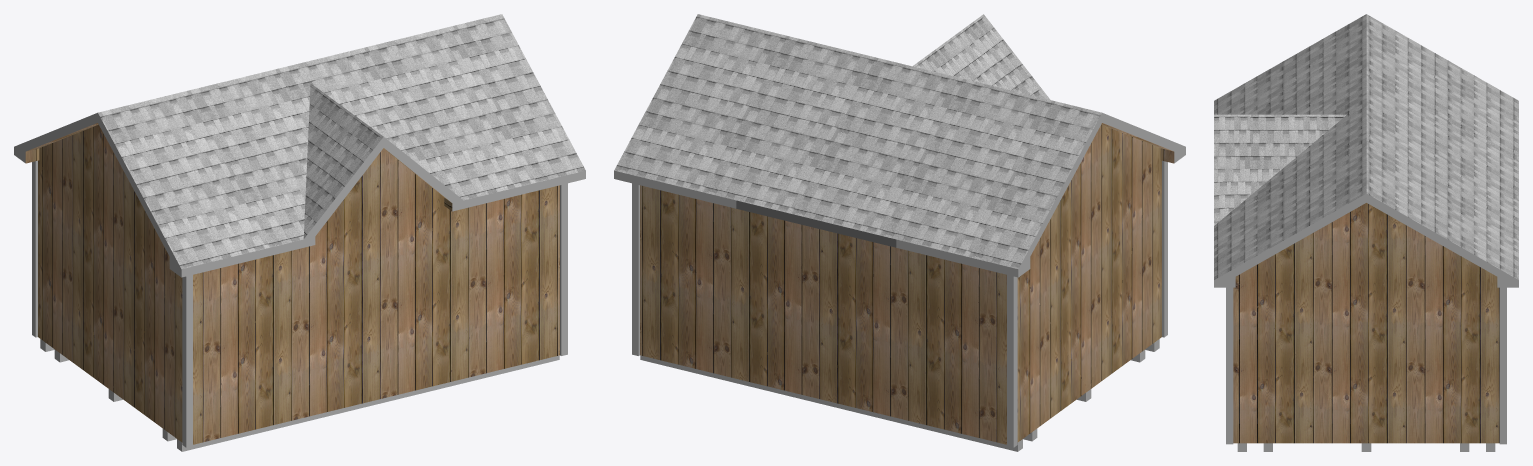
File: Victorian Shed_10x14.obj
3 views of the same model, side by side, from view 1: azimuth 30°, elevation 25°; view 2: azimuth 150°, elevation 25°; view 3: azimuth 270°, elevation 25° (orthographic). The views are drawn at different scales.
Visible parts, largest first — view 1: Shed, Roof, Sides, Trim, Floor; view 2: Shed, Roof, Sides, Trim, Floor; view 3: Roof, Shed, Sides, Trim, Floor.
Part boxes in pixels (x1,y1,x2,y2): Shed: (25,123,559,444); Roof: (98,14,585,269); Sides: (14,112,585,277); Trim: (32,160,567,447); Floor: (40,339,559,451); Shed: (640,123,1174,444); Roof: (614,14,1101,269); Sides: (614,112,1185,277); Trim: (632,160,1167,447); Floor: (640,339,1159,451); Roof: (1214,14,1518,279); Shed: (1233,203,1499,443); Sides: (1214,193,1518,287); Trim: (1226,287,1506,444); Floor: (1237,443,1495,451).
Size of the model in its own units: 4.57 by 3.14 by 3.28.
